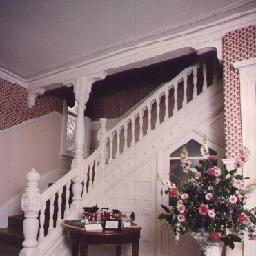Escaleras: (102, 62, 210, 170), (3, 156, 95, 254)
Matera: (161, 154, 253, 253)
